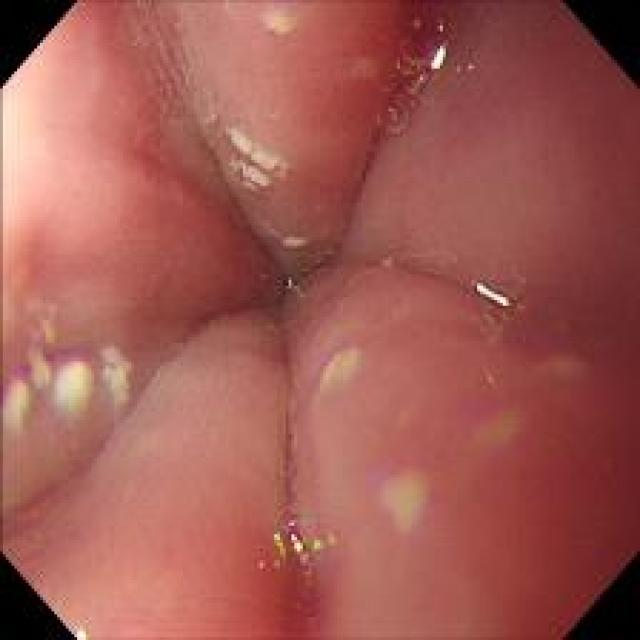bubbles: (392, 12, 460, 78), (374, 92, 412, 136), (548, 312, 579, 345)
color misalignment: (242, 511, 348, 576), (481, 288, 512, 309), (454, 58, 478, 72), (384, 104, 399, 119), (408, 15, 422, 30), (286, 275, 295, 289)
specularity: (464, 278, 520, 320), (426, 40, 451, 76), (278, 270, 301, 299)
